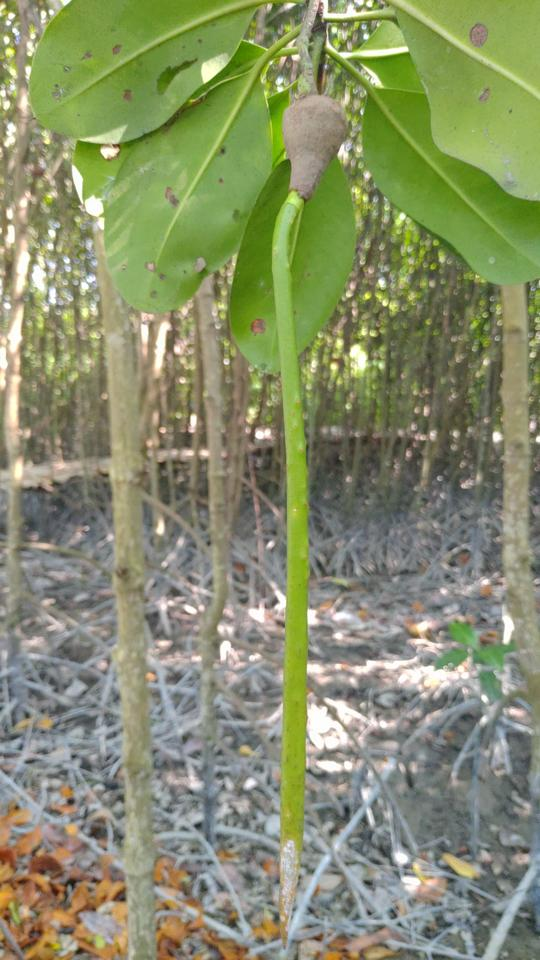setengah matang: (265, 64, 361, 955)
